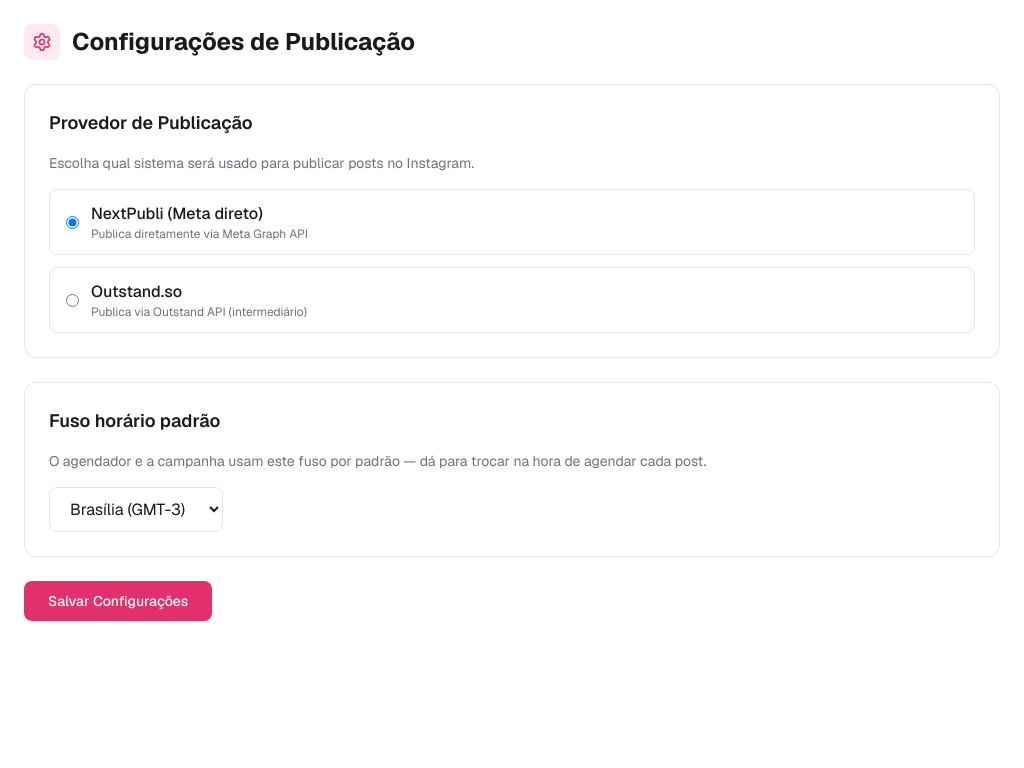
Scenario: AdminPostingSettings › shows success feedback after save
Click the button "Salvar Configurações" at coordinates (118, 601), box [24,581,212,621]
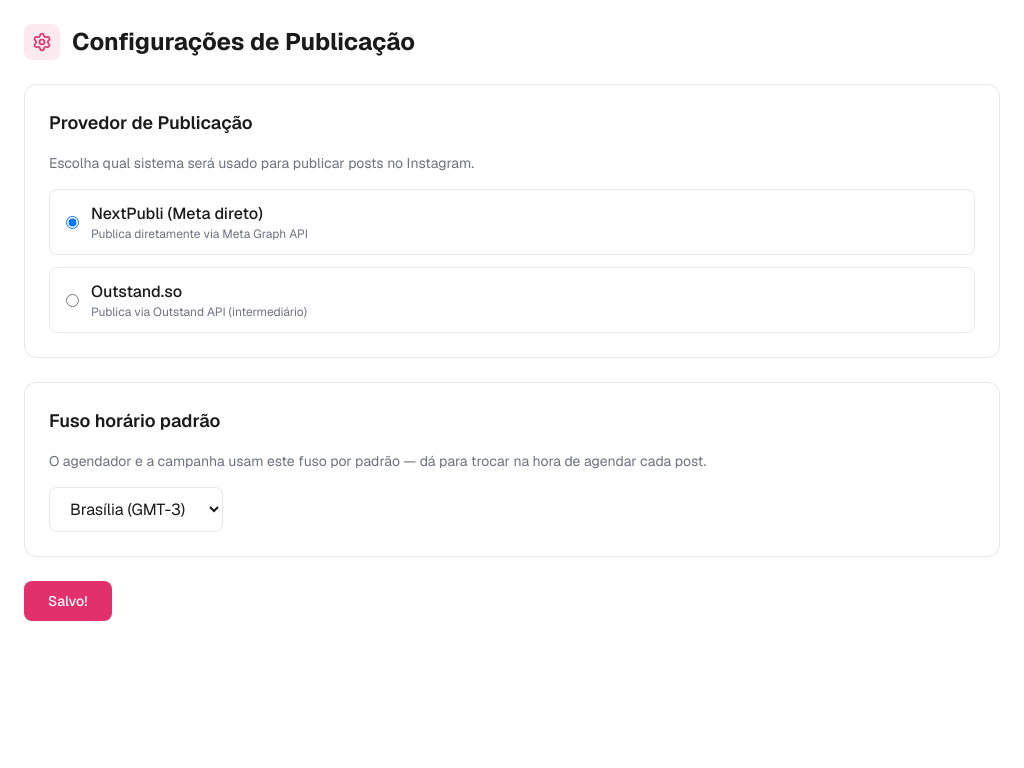
expect the button "Salvo!" is shown: met, box [24,581,112,621]
